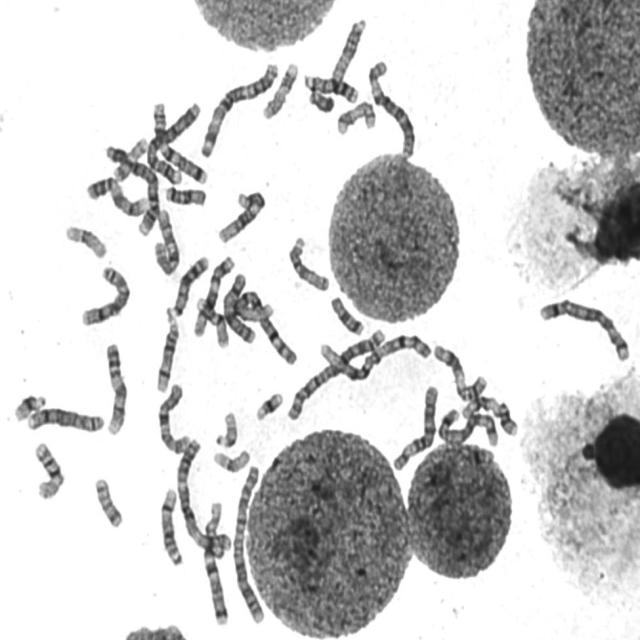A1: (223, 280, 300, 367), (316, 328, 433, 382)
A2: (284, 322, 387, 423), (228, 458, 268, 626)
A3: (197, 57, 281, 159), (172, 432, 232, 558)
B4: (104, 140, 162, 238), (146, 98, 207, 186)
B5: (536, 293, 632, 364), (435, 404, 500, 448)
C10: (154, 379, 192, 455), (150, 203, 182, 277)
C11: (430, 339, 490, 402), (459, 392, 521, 438)
C12: (190, 251, 237, 339), (215, 185, 268, 245)
C6: (364, 54, 418, 160), (388, 380, 441, 472)
C7: (153, 105, 212, 186), (199, 520, 232, 626)
C8: (77, 262, 132, 328), (24, 403, 106, 435)
C9: (83, 172, 150, 220), (102, 338, 128, 438)
D13: (163, 250, 211, 322), (301, 69, 360, 104)
D14: (157, 483, 185, 568), (153, 313, 181, 395)
D15: (327, 13, 368, 84), (285, 231, 331, 294)
E16: (30, 438, 66, 502), (192, 292, 231, 349)
E17: (258, 57, 300, 120), (333, 96, 378, 137)
E18: (327, 290, 366, 336), (162, 182, 208, 208)
F19: (61, 220, 109, 261), (209, 444, 252, 474)
F20: (110, 132, 149, 182), (91, 474, 124, 530)
G21: (10, 389, 48, 423), (252, 387, 285, 423)
G22: (211, 406, 239, 449), (202, 497, 226, 538)
X: (220, 268, 257, 346)
Y: (306, 88, 336, 114)
